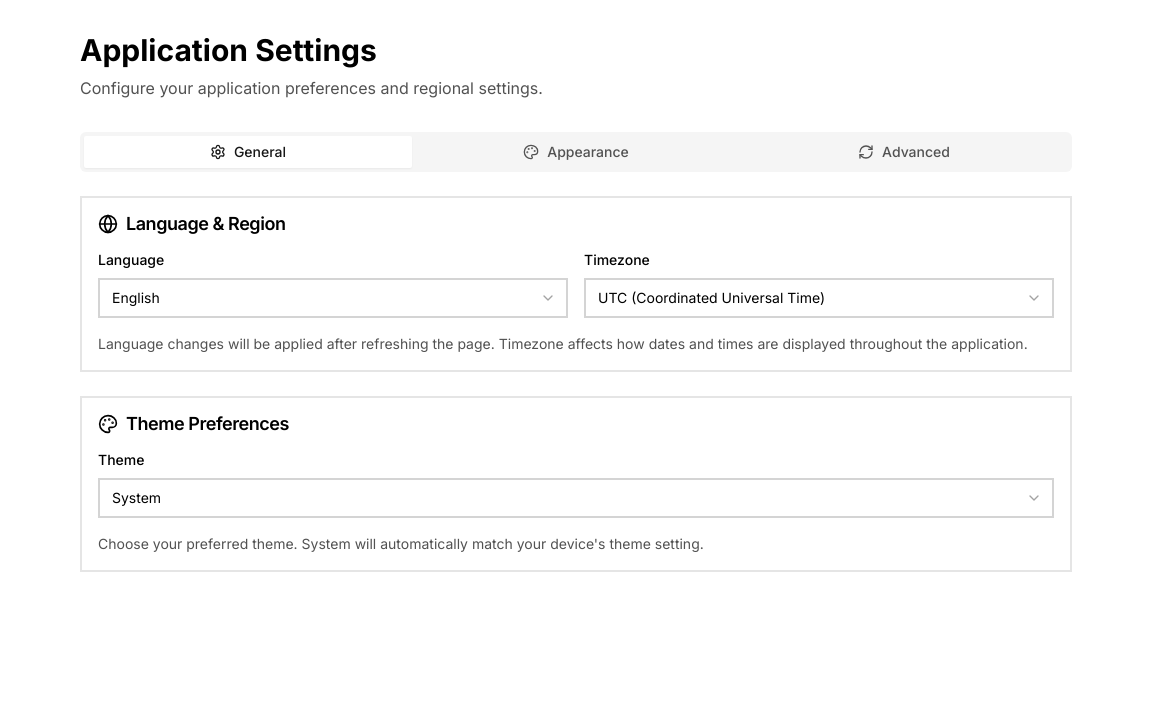
SettingsPage › resets changes when reset button is clicked
# Change language
Select "Español" in the dropdown showing "English": (333, 298) top-left (98, 278), bottom-right (568, 318)
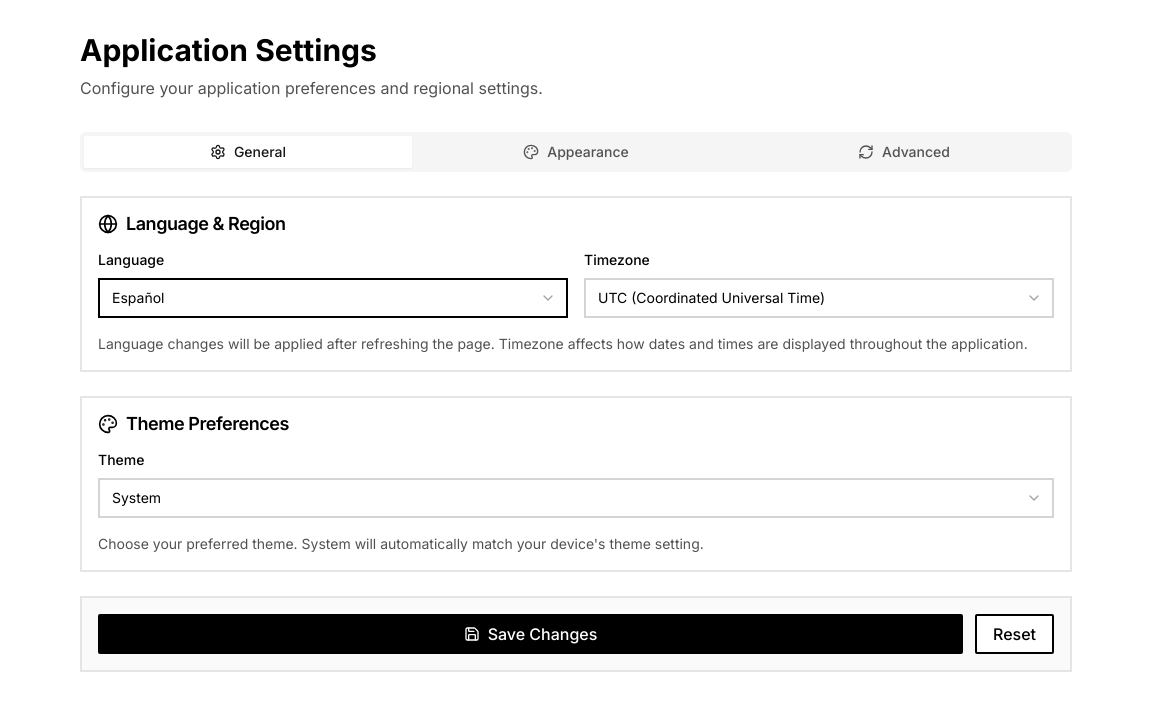
Result: the button "Reset" is shown
# Click reset
Click the button "Reset": (1014, 634) top-left (975, 614), bottom-right (1054, 654)
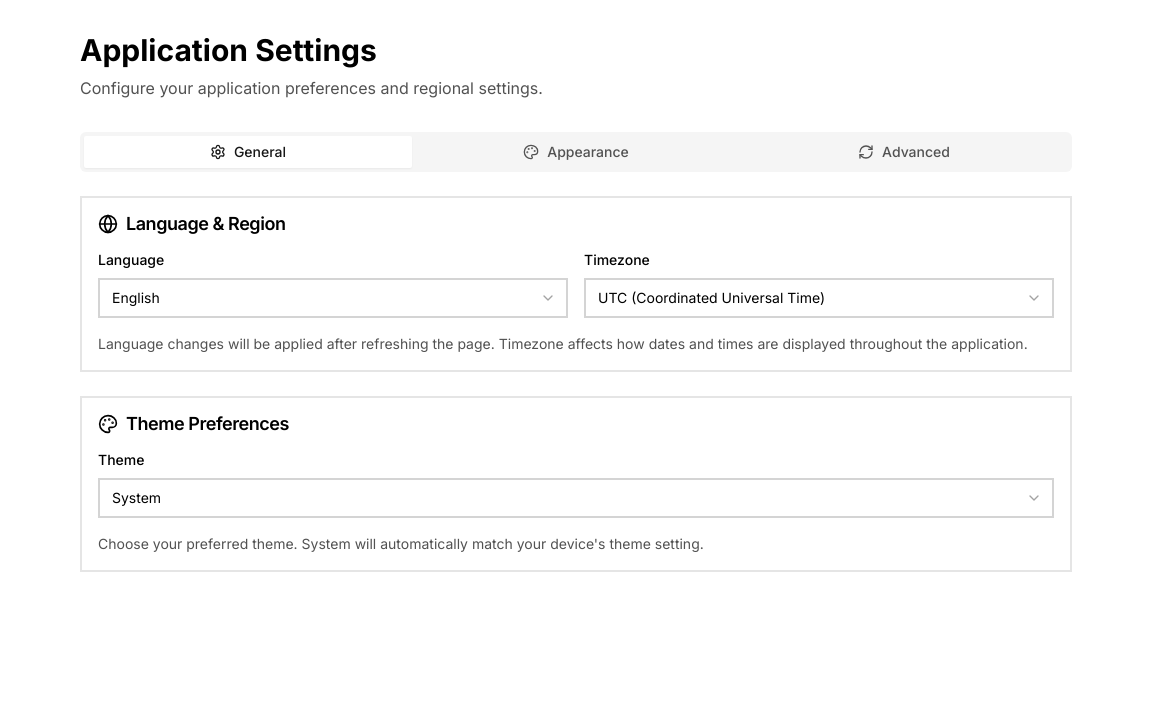
Result: the button "Save Changes" is gone
